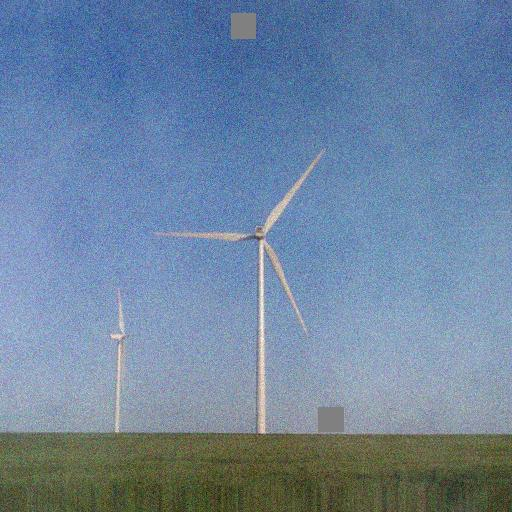wind turbine: (154, 146, 333, 430), (107, 283, 132, 432)
